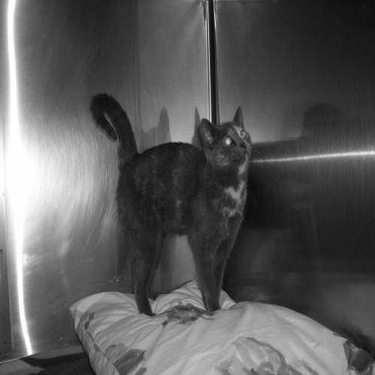cat: (79, 87, 257, 320)
